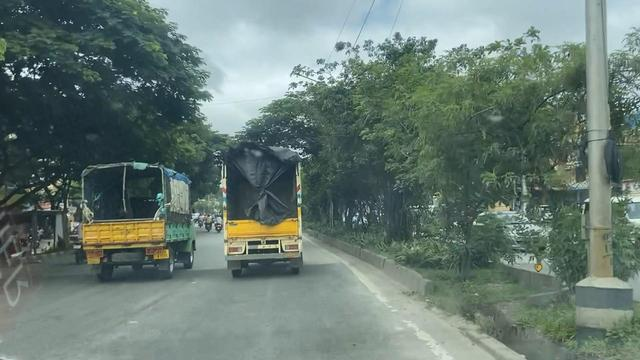HMV: (200, 125, 315, 300), (75, 153, 206, 281)
